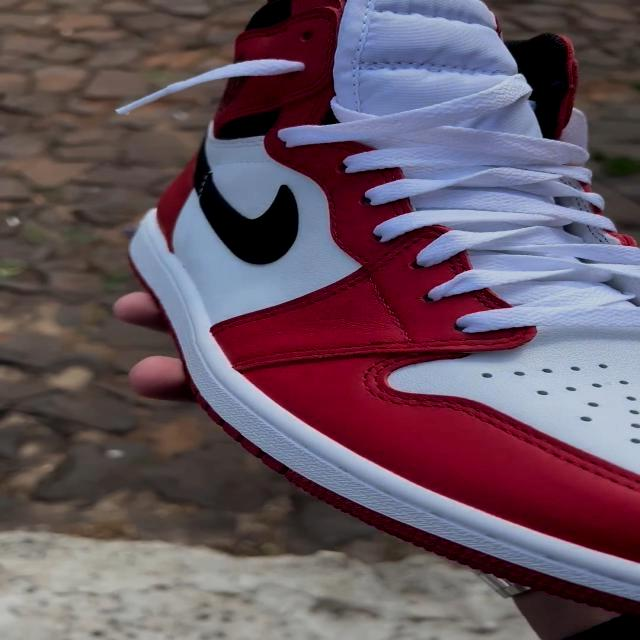nike_original_jordan: (113, 4, 640, 614)
